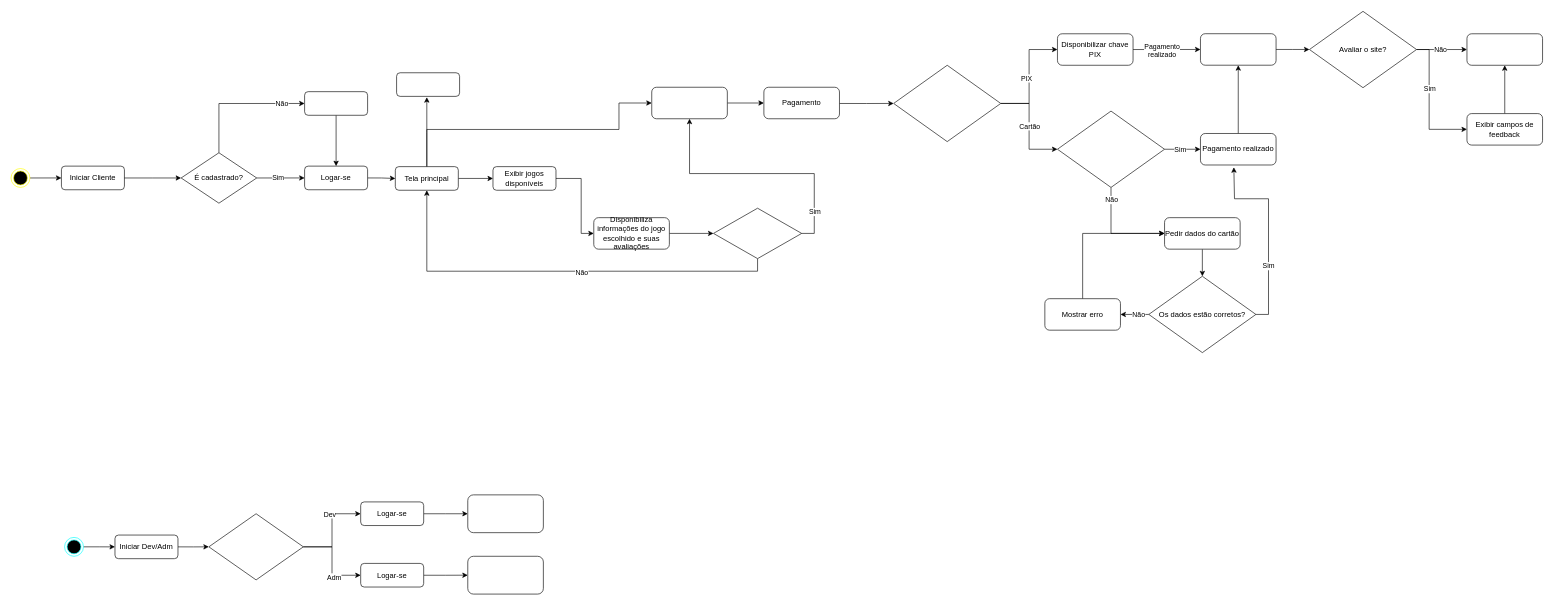
Some shapes in this 1554 by 605 pixel diagram are drawn without their labels. Here are the shapes that lost their labels. From the top down, the centre of each, then its label:
(1238,49): Disponibilizar arquivo de instalação do jogo
(1504,49): Fim da operação
(336,103): Cadastrar-se
(428,84): Histórico de compras
(689,103): Acessa o carrinho
(947,103): Método de pagamento: Cartão ou PIX?
(1111,148): Há um cartão cadastrado?
(757,233): Adicionar ao carrinho?
(255,546): É desenvolvedor ou admnistrador?
